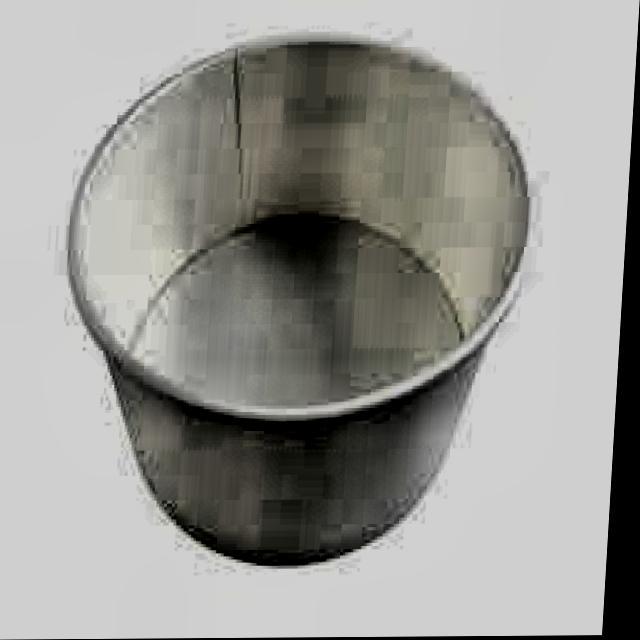Cup: (40, 30, 562, 585)
